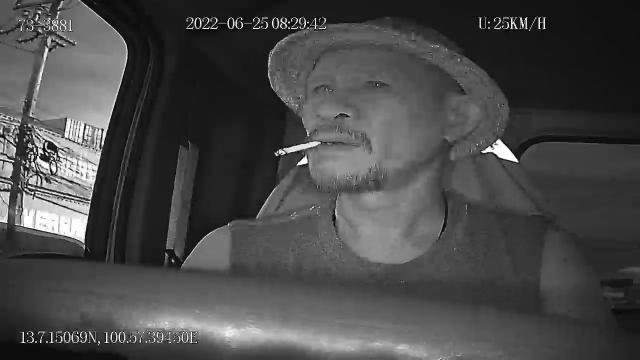SafeDriving: (355, 70, 396, 96), (306, 78, 338, 99)
Smoking: (274, 140, 322, 158)
